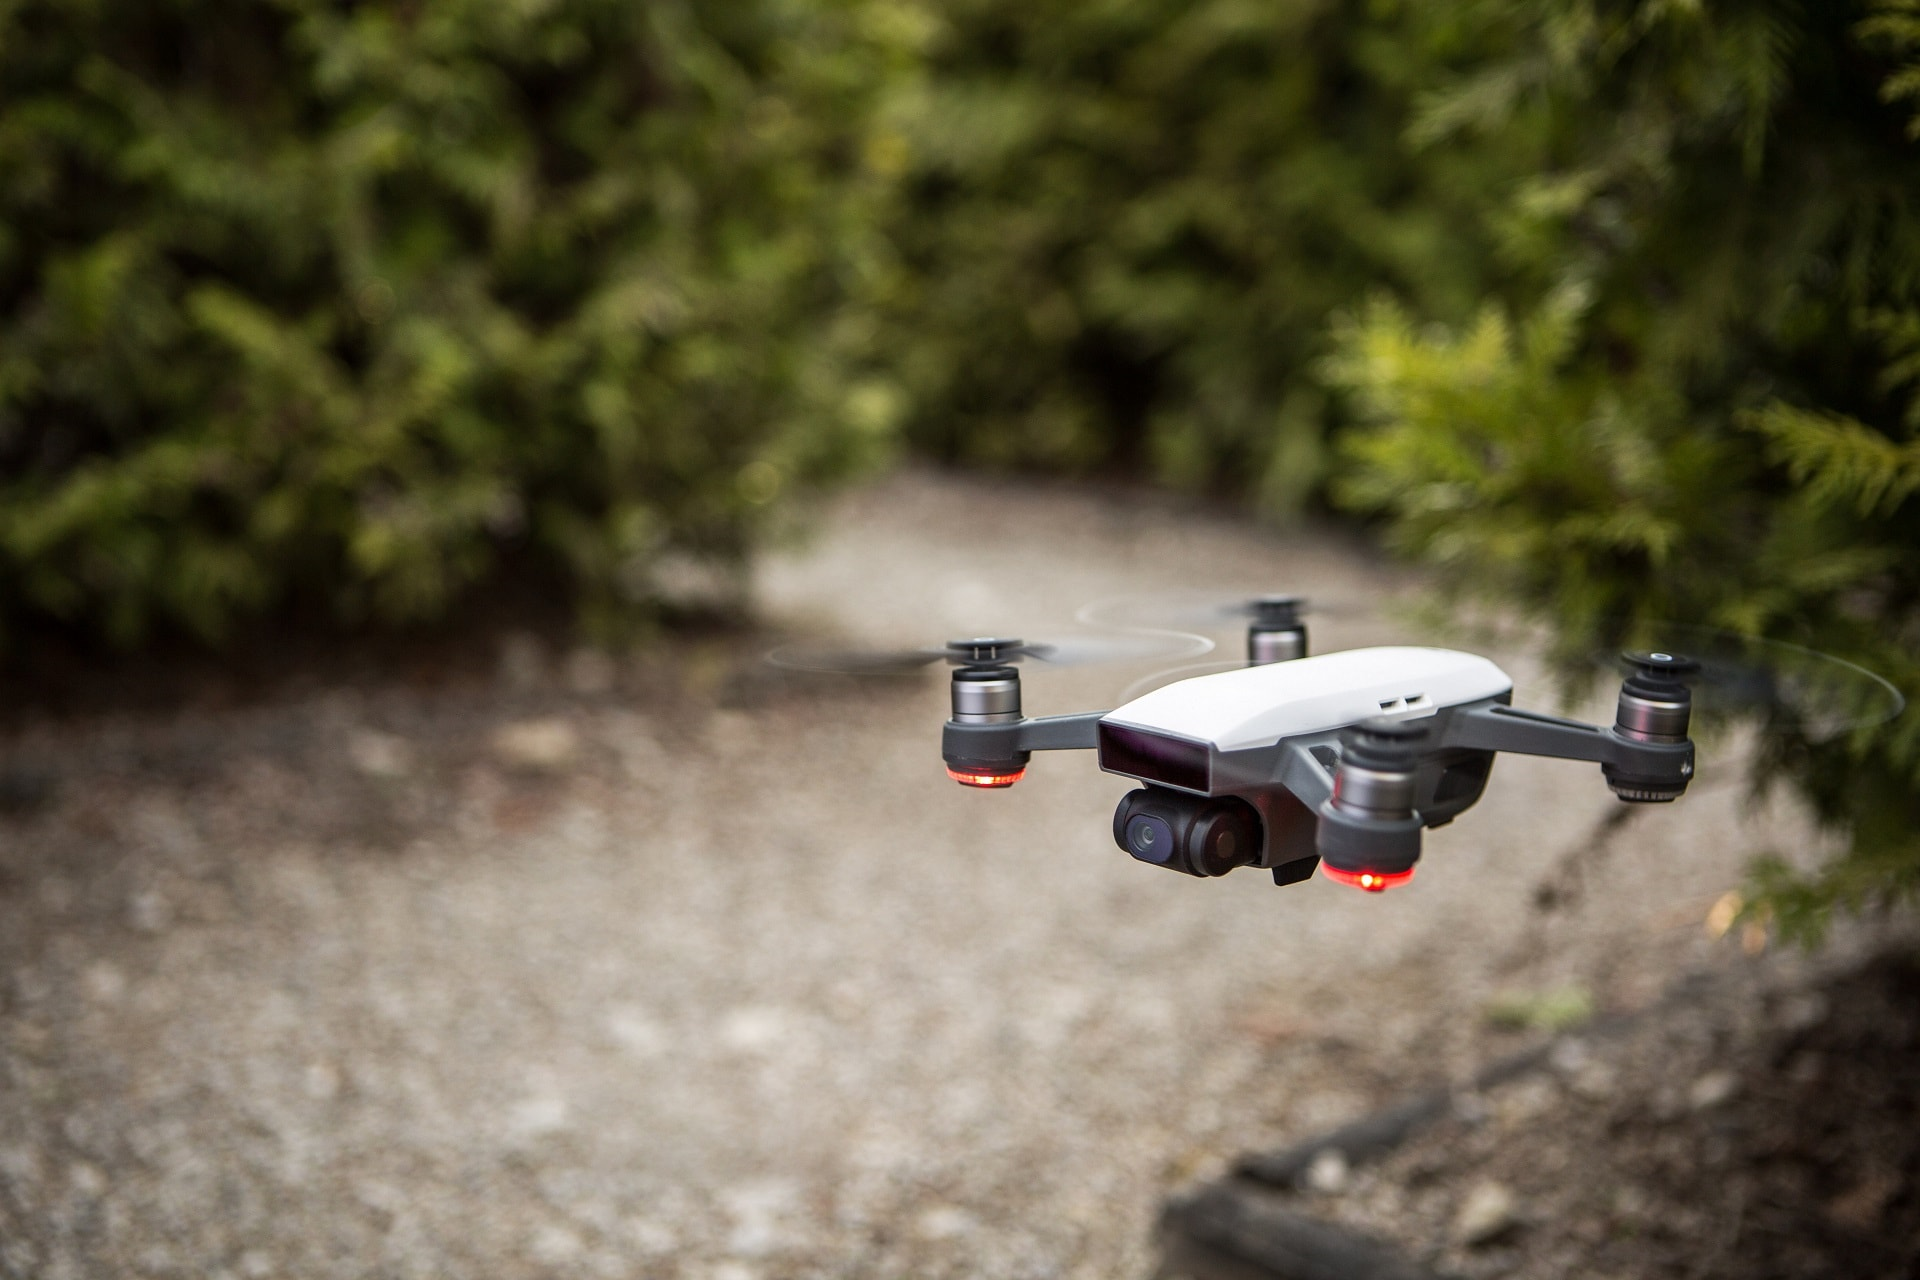drone: (761, 581, 1911, 907)
